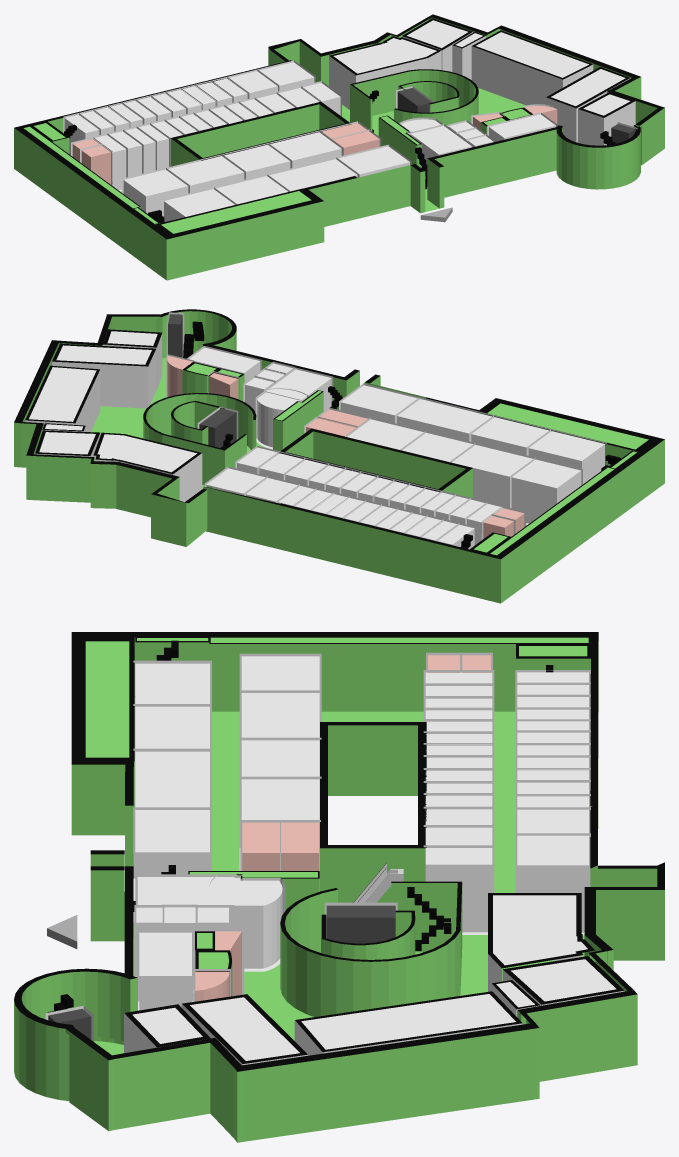
3 views of the same model, one above another, from view 1: azimuth 30°, elevation 25°; view 2: azimuth 150°, elevation 25°; view 3: azimuth 270°, elevation 25° (orthographic). The views are drawn at different scales.
Visible parts, largest first — view 1: object, room_9_6_38, room_9_6_33, room_9_6_44, room_9_6_43, room_9_6_1, room_9_6_2, room_9_6_39, room_9_6_37, room_9_6_7, room_9_6_4, room_9_6_3 (+20 smaller); view 2: object, room_9_6_44, room_9_6_38, room_9_6_33, room_9_6_1, room_9_6_2, room_9_6_37, room_9_6_7, room_9_6_5, room_9_6_6, room_9_6_8, room_9_6_39 (+23 smaller); view 3: object, room_9_6_38, room_9_6_33, room_9_6_37, room_9_6_44, room_9_6_8, room_9_6_7, object_line, room_9_6_40, room_9_6_39, room_9_6_36, room_9_6_2 (+39 smaller).
Part boxes in pixels (x1,y1,x2,y2): object: (14,14,664,280); room_9_6_38: (471,30,593,105); room_9_6_33: (329,36,441,109); room_9_6_44: (546,67,630,142); room_9_6_43: (578,92,635,145); room_9_6_1: (123,169,188,215); room_9_6_2: (168,156,244,192); room_9_6_39: (402,18,473,71); room_9_6_37: (400,119,471,178); room_9_6_7: (269,159,357,191); room_9_6_4: (270,132,341,167); room_9_6_3: (224,144,290,179); object: (14,309,664,603); room_9_6_44: (52,343,156,408); room_9_6_38: (25,365,100,431); room_9_6_33: (93,432,202,502); room_9_6_1: (511,459,581,523); room_9_6_2: (452,445,532,507); room_9_6_37: (257,369,331,447); room_9_6_7: (397,399,491,441); room_9_6_5: (528,431,604,483); room_9_6_6: (471,417,548,455); room_9_6_8: (340,385,417,423); room_9_6_39: (35,430,100,461); object: (14,632,664,1142); room_9_6_38: (294,991,522,1055); room_9_6_33: (488,893,594,991); room_9_6_37: (137,877,282,968); room_9_6_44: (181,994,308,1065); room_9_6_8: (135,810,209,900); room_9_6_7: (135,751,209,807); object_line: (515,833,590,935); room_9_6_40: (139,932,191,1010); room_9_6_39: (502,956,624,1005); room_9_6_36: (425,848,492,932); room_9_6_2: (241,693,319,737).
Size of the model in its own units: 2.29 by 0.2092 by 1.43.
